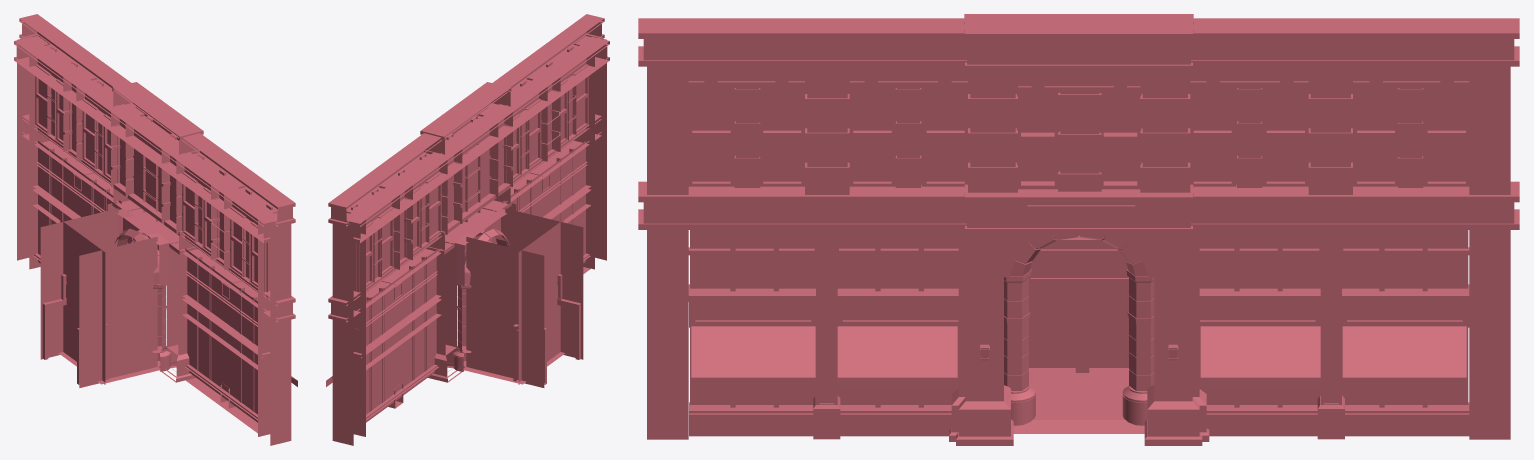
Rendered from buildingbase_01_low.fbx.
3 views of the same model, side by side, from view 1: azimuth 30°, elevation 25°; view 2: azimuth 150°, elevation 25°; view 3: azimuth 270°, elevation 25° (orthographic). The views are drawn at different scales.
Visible parts, largest first — view 1: low_low; view 2: low_low; view 3: low_low.
Boxes of the visible parts, box(x1,y1,x2,y2) form: low_low: box(14, 14, 297, 445); low_low: box(326, 14, 609, 445); low_low: box(638, 14, 1519, 445).
Size of the model in its own units: 583 by 1080 by 2100.
